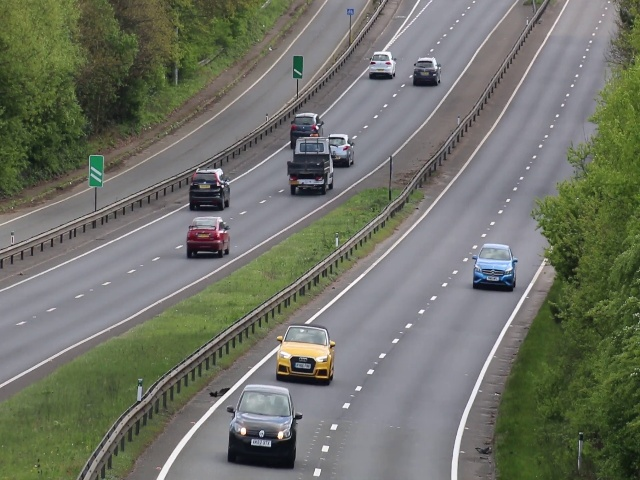car: (227, 382, 298, 472), (276, 323, 333, 383), (290, 137, 334, 195), (473, 241, 517, 293), (186, 215, 232, 260), (188, 168, 231, 209), (325, 134, 358, 167), (366, 48, 398, 81), (413, 56, 440, 89), (290, 109, 321, 137)
